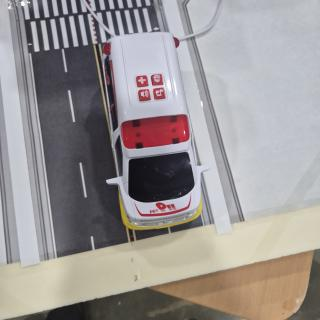Ambulance: (102, 32, 210, 230)
